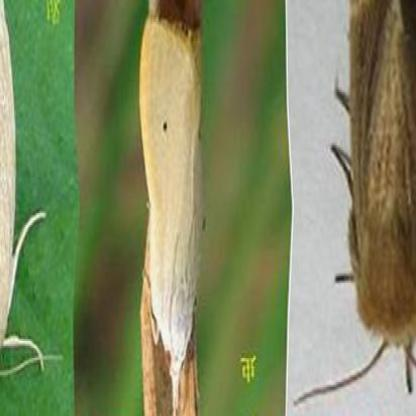stem-borer: (322, 0, 416, 399), (135, 10, 204, 416)
